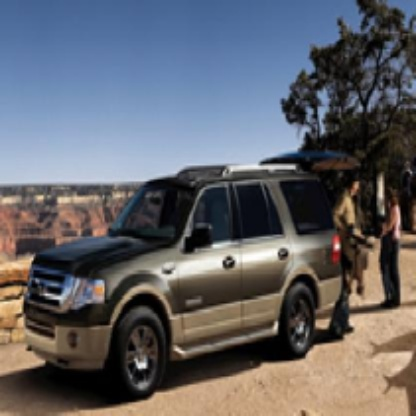Vehicle: (25, 164, 351, 408)
